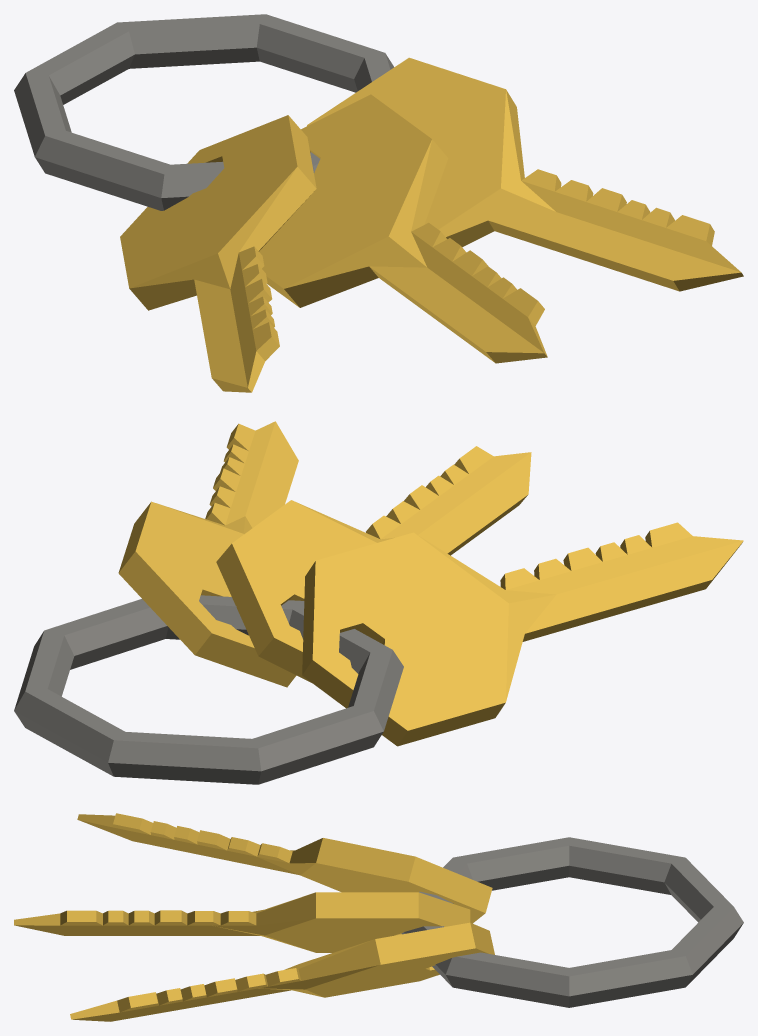
Rendered from llave de victor howard.fbx.
3 renders of one model, top to bottom at view 1: azimuth 30°, elevation 25°; view 2: azimuth 150°, elevation 25°; view 3: azimuth 270°, elevation 25°, orthographic. The views are drawn at different scales.
Visible parts, largest first — view 1: Cylinder, Cylinder.001, Cylinder.002, Torus; view 2: Cylinder.002, Torus, Cylinder, Cylinder.001; view 3: Torus, Cylinder, Cylinder.001, Cylinder.002.
Part boxes in pixels (x1=…): Cylinder: x1=259, y1=94, x2=547, y2=363; Cylinder.001: x1=307, y1=57, x2=743, y2=291; Cylinder.002: x1=120, y1=115, x2=316, y2=392; Torus: x1=14, y1=14, x2=393, y2=210; Cylinder.002: x1=302, y1=522, x2=743, y2=746; Torus: x1=14, y1=595, x2=403, y2=784; Cylinder: x1=216, y1=446, x2=531, y2=682; Cylinder.001: x1=118, y1=421, x2=298, y2=687; Torus: x1=401, y1=837, x2=743, y2=1007; Cylinder: x1=14, y1=892, x2=470, y2=952; Cylinder.001: x1=70, y1=922, x2=494, y2=1021; Cylinder.002: x1=77, y1=813, x2=492, y2=923.
Bounding box in the file's own units: 471 × 126 × 710.
